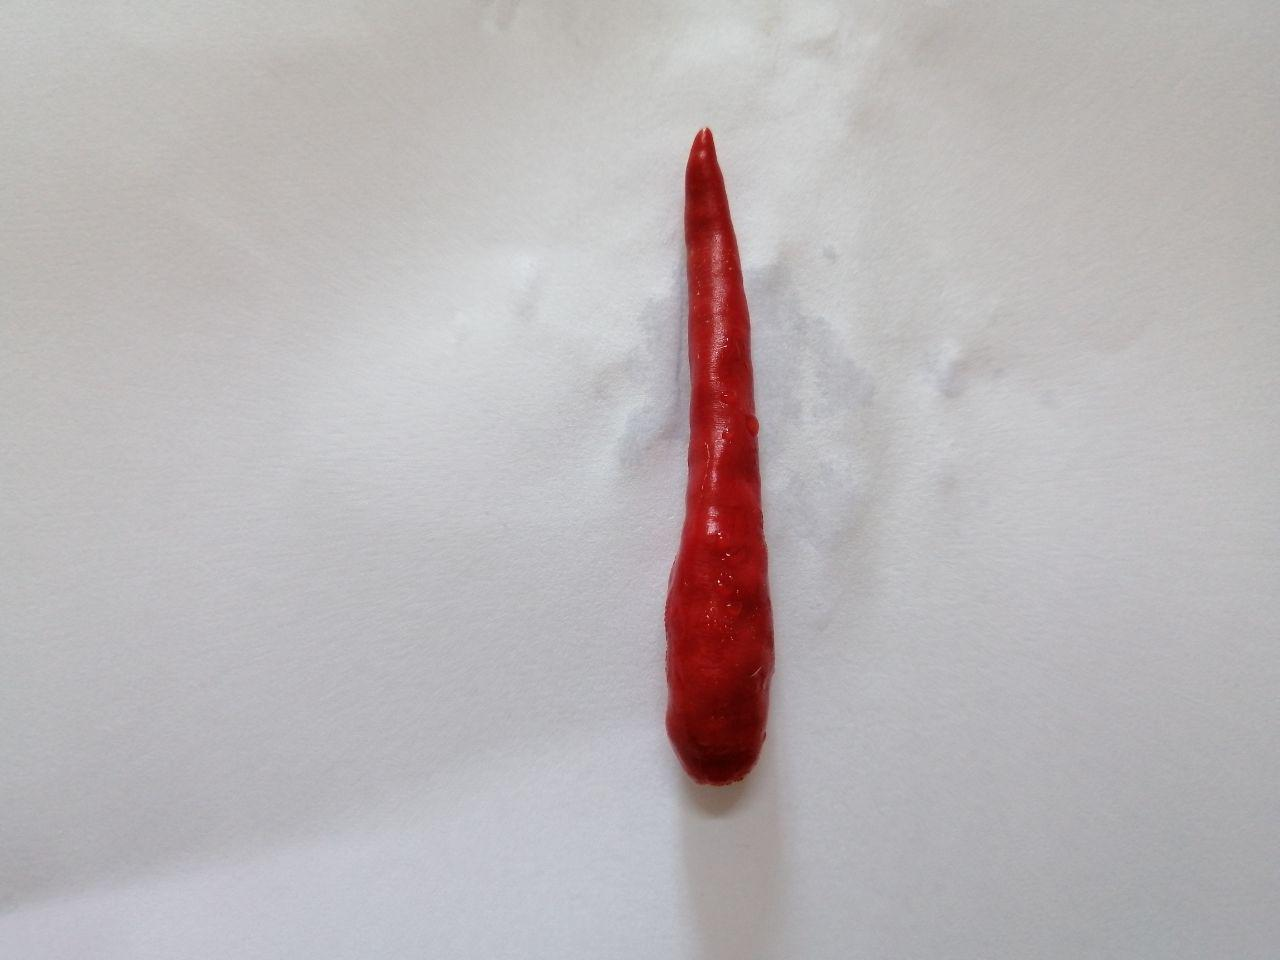lada merah: (647, 114, 824, 805)
